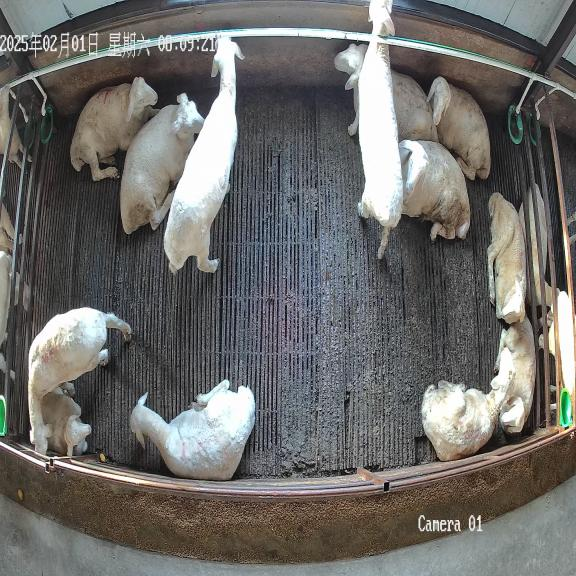lying: (130, 380, 255, 480), (120, 93, 204, 234), (421, 347, 515, 461), (334, 44, 438, 142), (70, 77, 161, 180), (399, 140, 470, 241), (427, 76, 490, 180), (487, 193, 526, 324), (500, 315, 536, 433), (42, 387, 90, 456)
stand: (164, 36, 244, 272), (29, 307, 131, 453), (358, 0, 403, 259)
